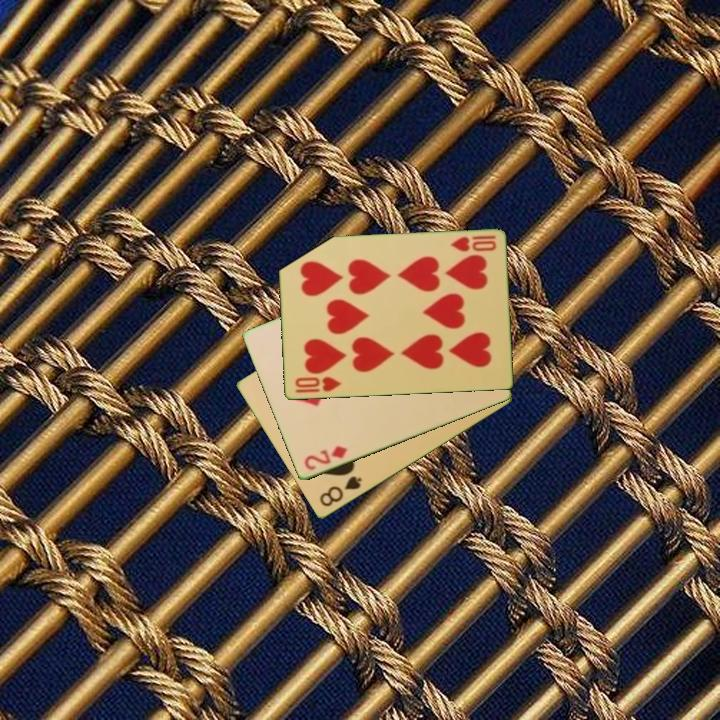10h: (447, 232, 499, 255), (291, 374, 343, 395)
2d: (300, 442, 350, 474)
8s: (316, 473, 365, 510)
